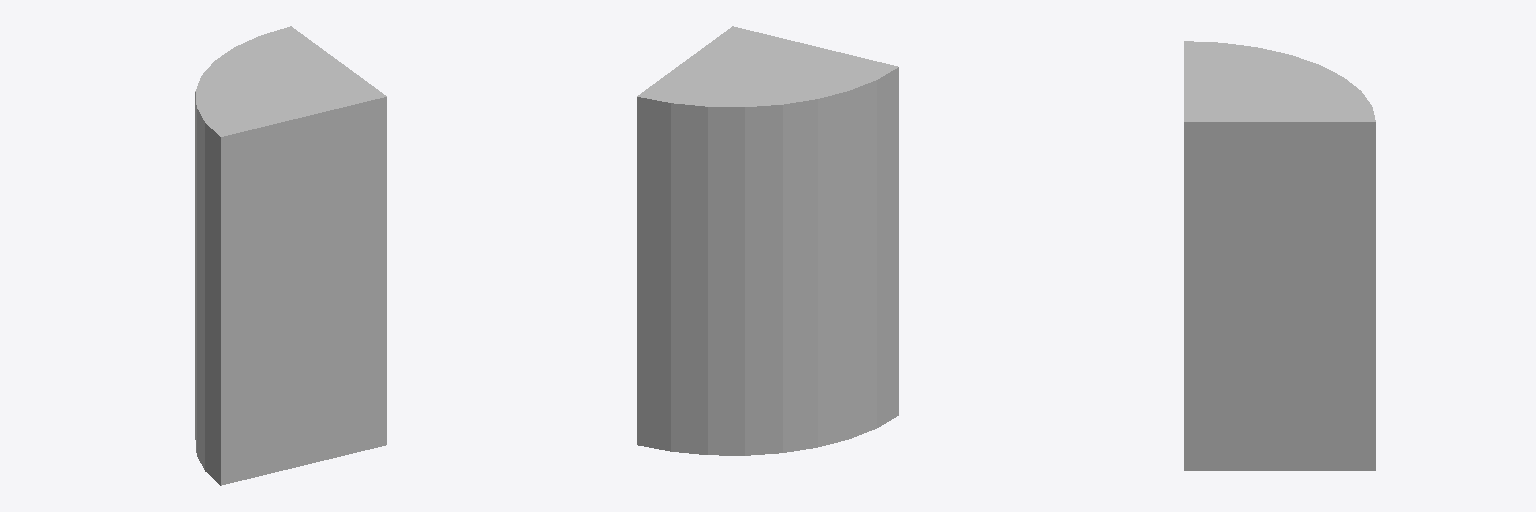
Rendered from quarter_cylinder.obj.
The picture shows the model from 3 angles: view 1: azimuth 30°, elevation 25°; view 2: azimuth 150°, elevation 25°; view 3: azimuth 270°, elevation 25°; orthographic projection.
Visible parts, largest first — view 1: Cylinder; view 2: Cylinder; view 3: Cylinder.
Boxes of the visible parts, x1=… form: Cylinder: x1=195, y1=26, x2=386, y2=485; Cylinder: x1=637, y1=26, x2=898, y2=455; Cylinder: x1=1184, y1=41, x2=1375, y2=470.
Size of the model in its own units: 1 by 2 by 1.